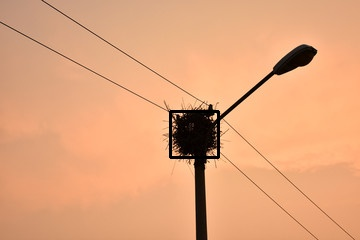bird-nest: (170, 111, 218, 157)
